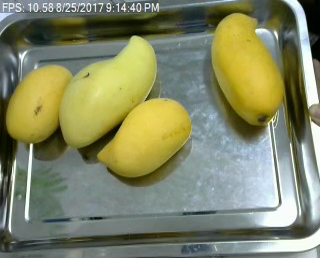Mango: (58, 29, 161, 152), (208, 10, 289, 129), (95, 93, 196, 185), (4, 61, 75, 146)
